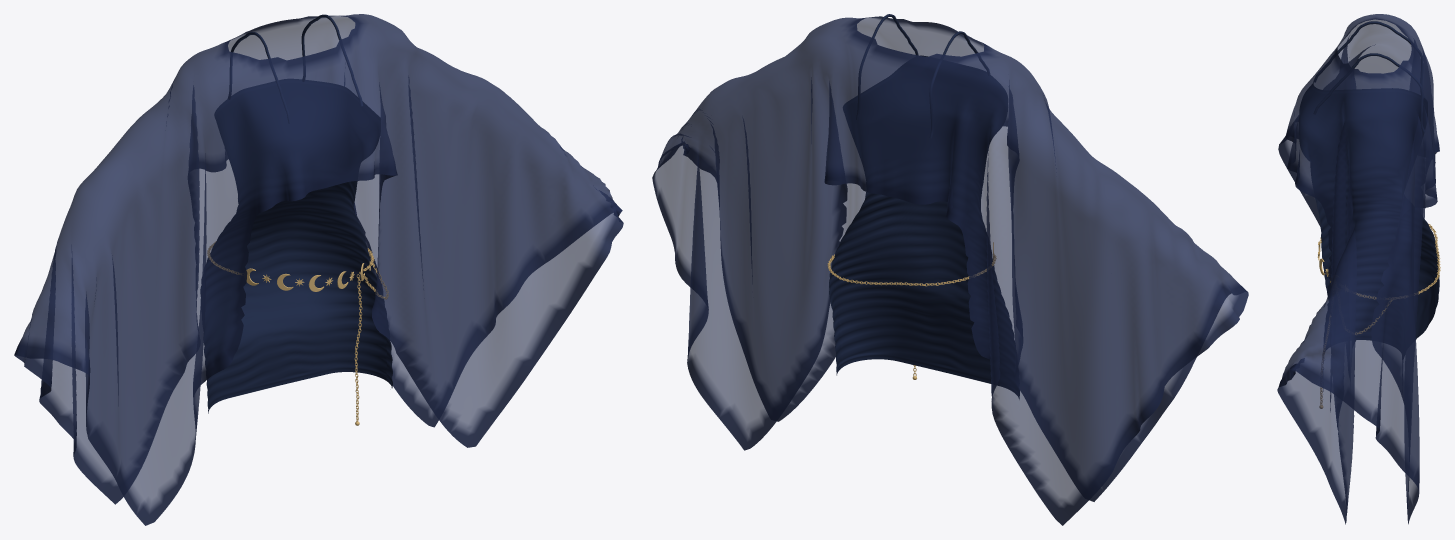
File: vestido-capa-talla-S.glb
The picture shows the model from 3 angles, left to right: view 1: azimuth 30°, elevation 25°; view 2: azimuth 150°, elevation 25°; view 3: azimuth 270°, elevation 25°; orthographic projection. The views are drawn at different scales.
Parts seen in each view (by area): view 1: capa-malla, vestido-tirantes, cadena-lunas; view 2: capa-malla, vestido-tirantes; view 3: capa-malla, vestido-tirantes, tirante (×2), cadena.
Boxes of the visible parts, x1,y1,x2,y2 form: capa-malla: [14, 14, 623, 525]; vestido-tirantes: [200, 79, 392, 413]; cadena-lunas: [246, 261, 370, 425]; capa-malla: [652, 16, 1248, 525]; vestido-tirantes: [829, 55, 1019, 398]; capa-malla: [1277, 14, 1439, 524]; vestido-tirantes: [1299, 82, 1439, 358]; tirante (×2): [1313, 21, 1425, 132]; cadena: [1356, 223, 1440, 299].
Bounding box in the file's own units: 1.27 × 0.9268 × 0.3294.
